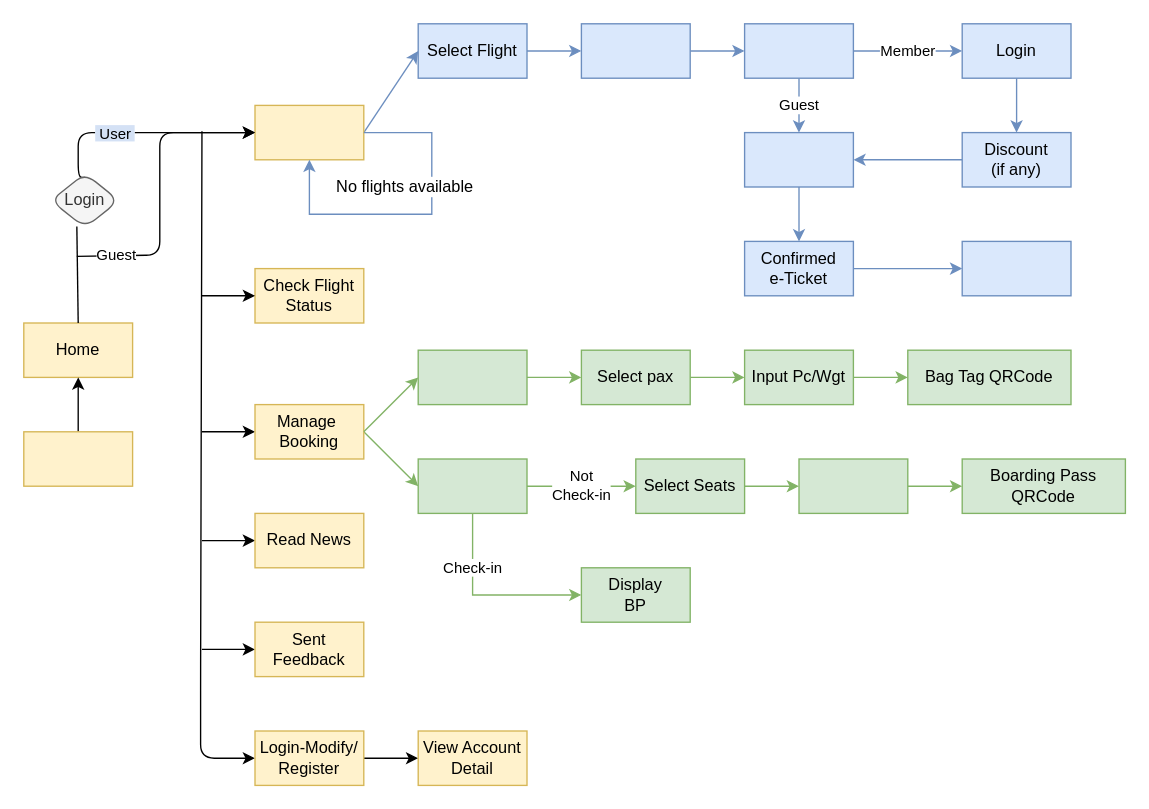
Image size: 1149x809. Some labels were removed from this diagram. The centre of each missing label's shape, as x and y in pixels:
"Add-ons (if any)" goes at (853,485).
"Ckin Baggage" goes at (472,377).
"Email Confirmation" goes at (1016,268).
"Input Pax Details" goes at (635,50).
"Passengers" goes at (77,458).
"Pax" goes at (472,485).
"Payment" goes at (798,159).
"Search flights" goes at (309,132).
"Select Seats (optional)" goes at (798,50).
